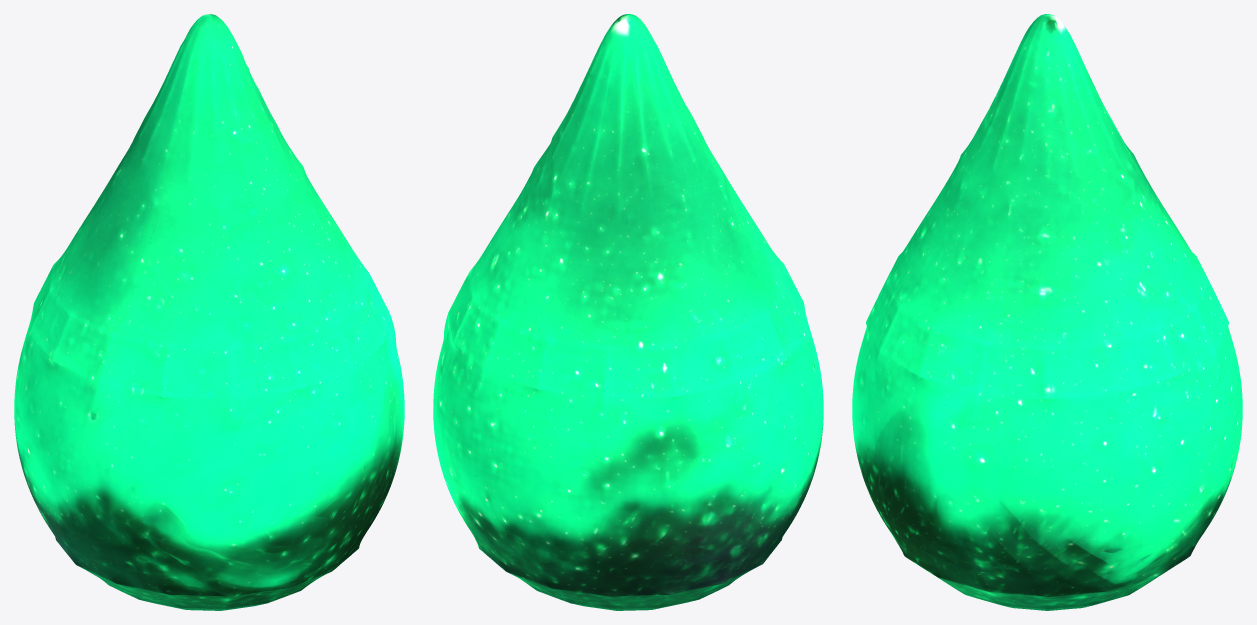
Rendered from emerald_droplets.glb.
The picture shows the model from 3 angles, left to right: view 1: azimuth 30°, elevation 25°; view 2: azimuth 150°, elevation 25°; view 3: azimuth 270°, elevation 25°; orthographic projection.
Bounding box in the file's own units: 1.17 × 1.9 × 1.17.
1 material, 1 textured.
